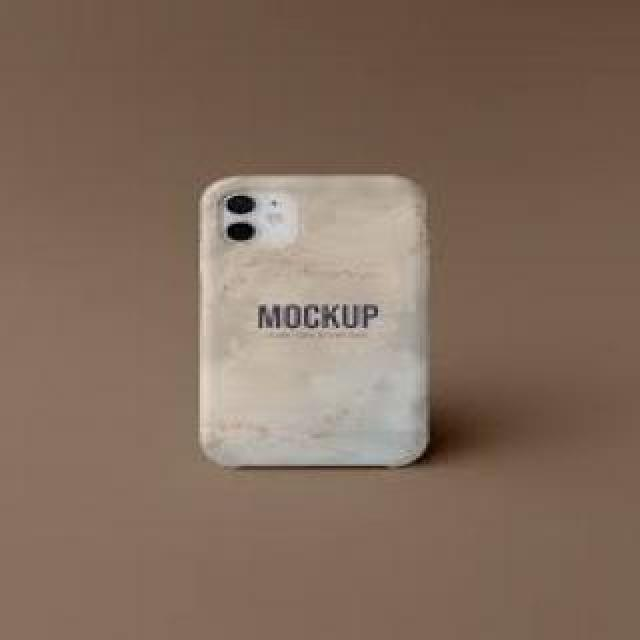smart phone: (188, 97, 458, 533)
